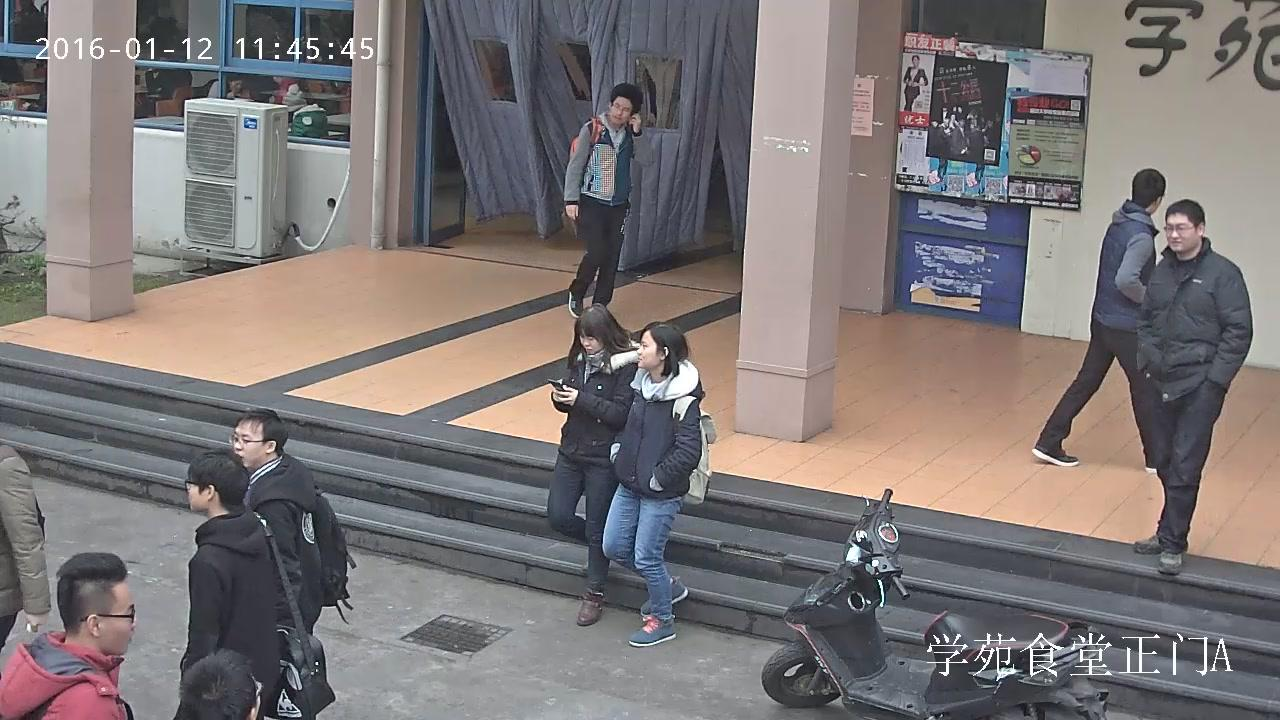person: (1135, 198, 1252, 575), (179, 446, 336, 720), (1030, 168, 1166, 472), (601, 319, 715, 647), (546, 301, 642, 626), (231, 408, 355, 635), (0, 552, 134, 720), (562, 82, 654, 318), (0, 440, 50, 648), (281, 84, 328, 140), (144, 49, 192, 102), (903, 55, 928, 111)
